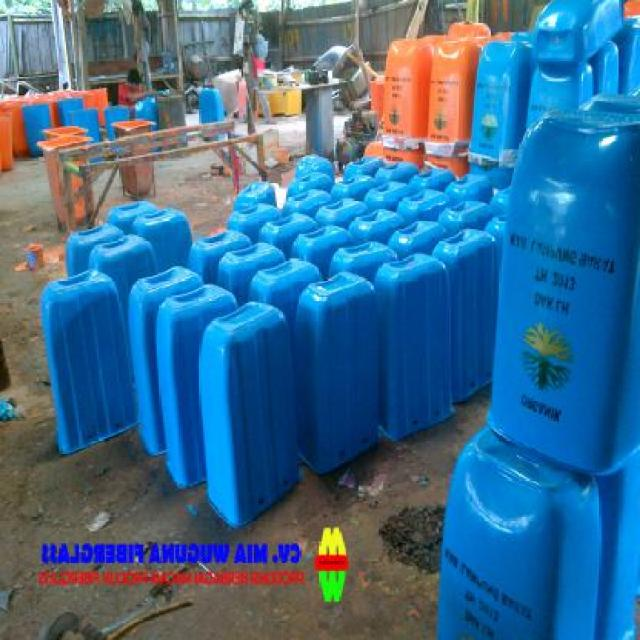garbage container: (476, 114, 639, 480), (437, 433, 611, 639), (197, 301, 301, 534), (31, 268, 147, 457)
